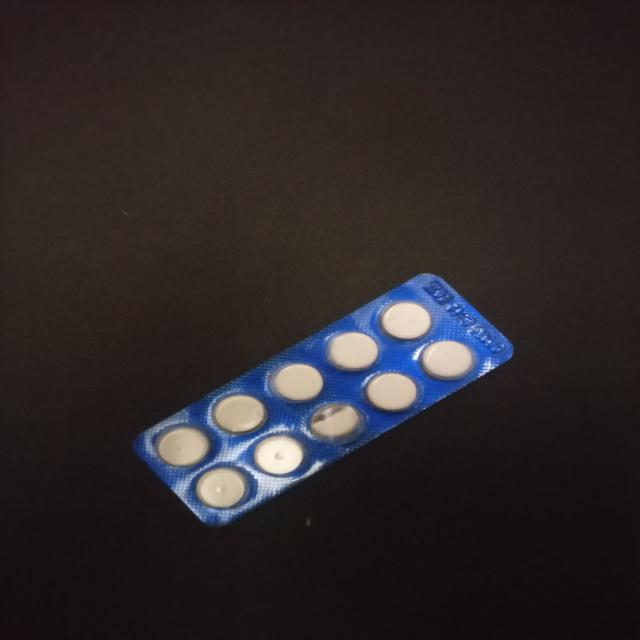defect: (308, 402, 365, 446)
